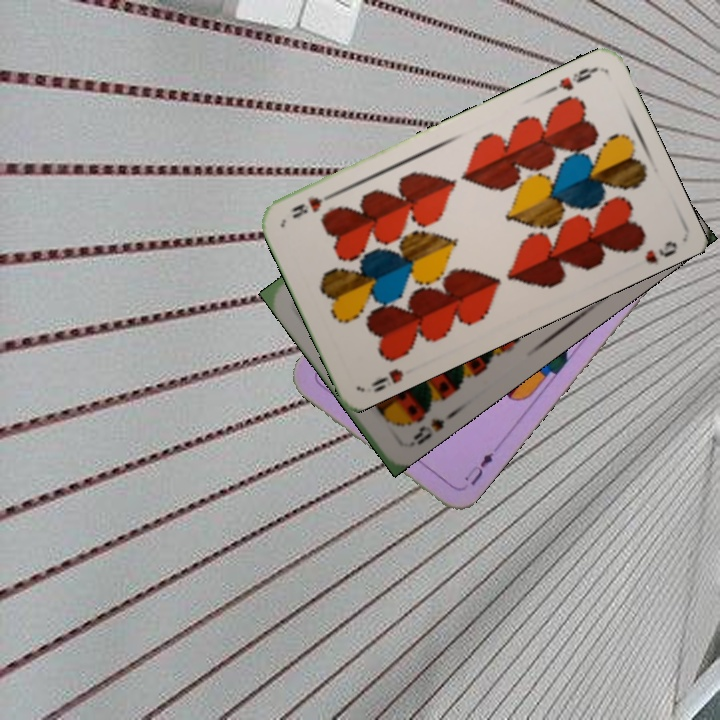EU: (466, 448, 496, 489)
H9: (544, 63, 599, 95), (366, 364, 406, 395)
S8: (403, 414, 448, 451)
